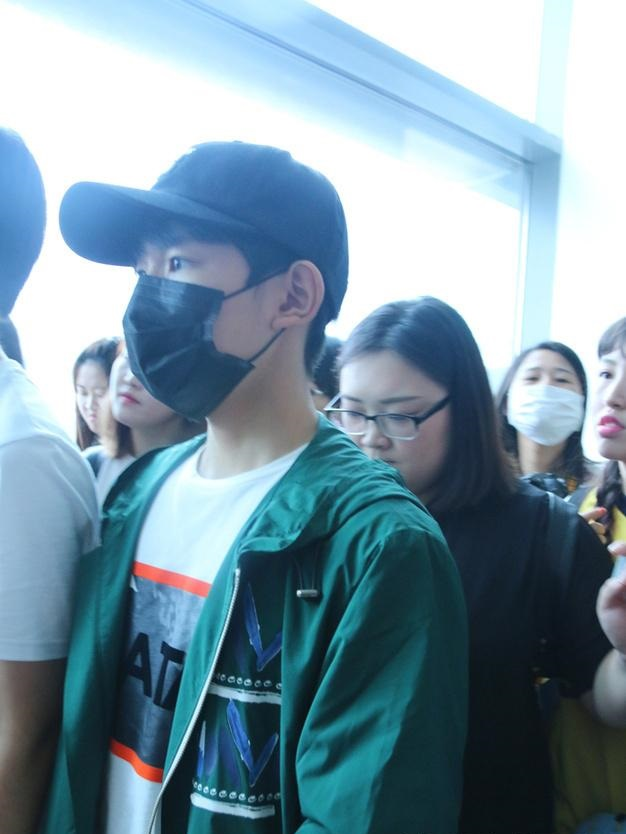face: (338, 353, 447, 491), (111, 327, 169, 424), (587, 333, 625, 455), (76, 364, 114, 433)
face_mask: (132, 197, 266, 415), (511, 347, 579, 441)
